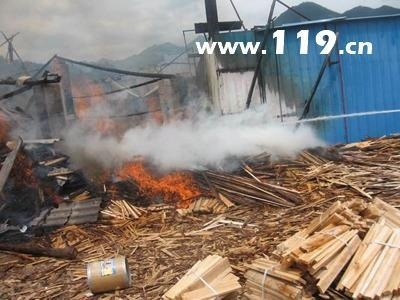fire: (116, 159, 215, 207)
